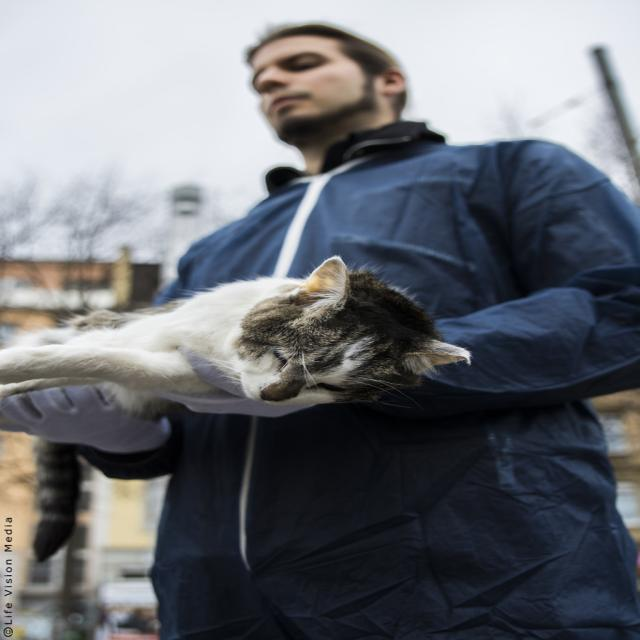Cat: (0, 256, 475, 558)
